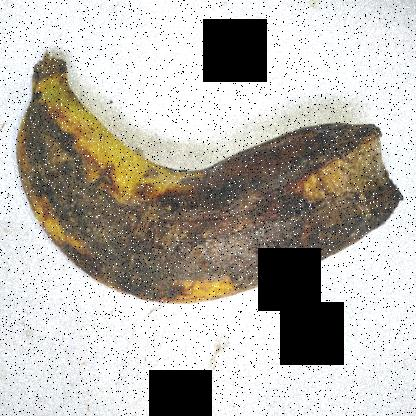rotten: (11, 64, 403, 329)
